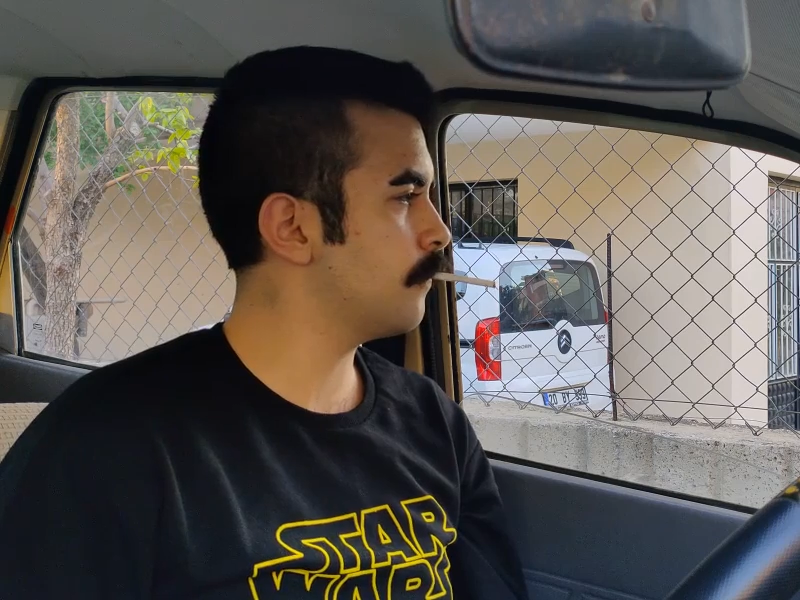sigara: (432, 271, 497, 289)
